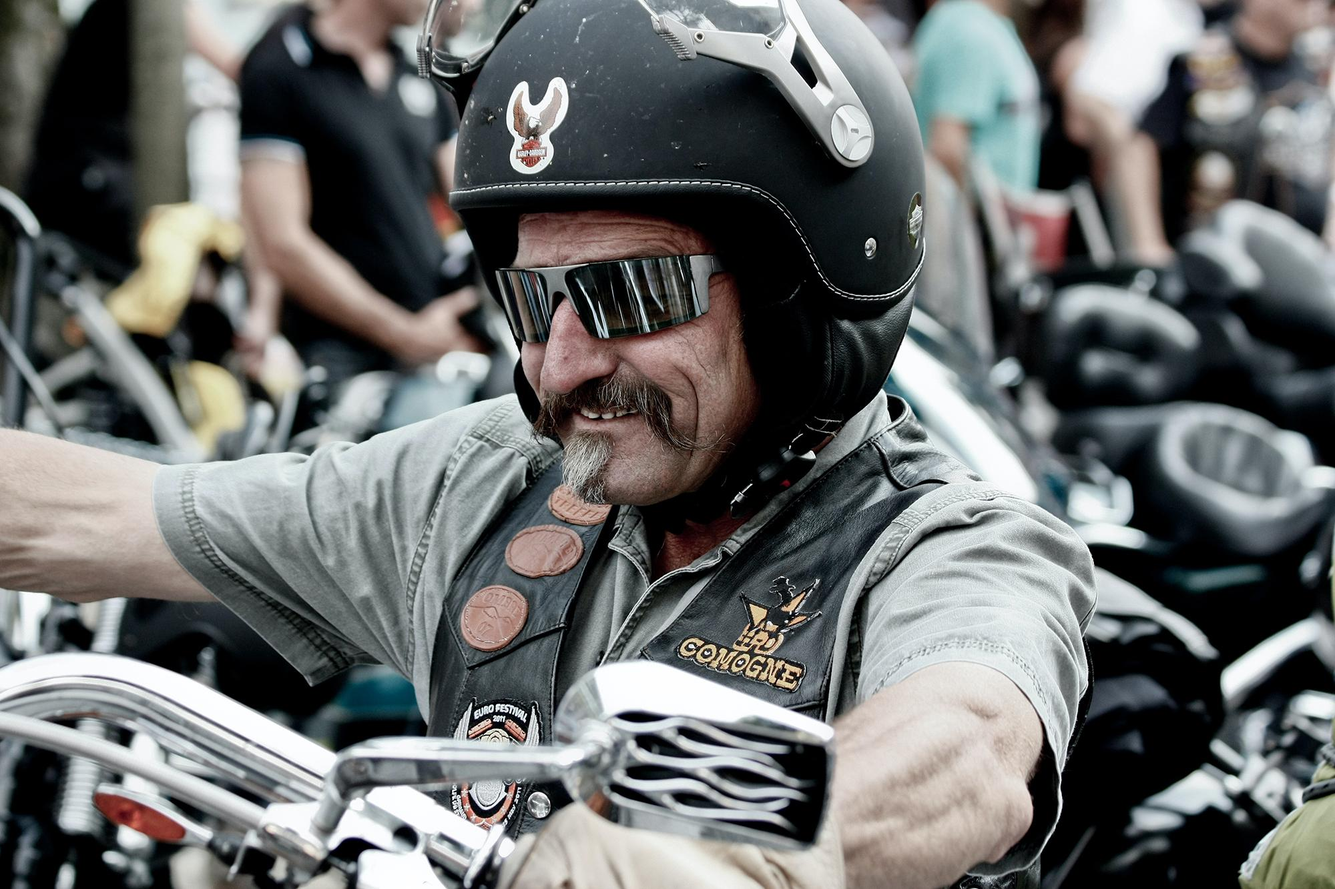helmet: (414, 0, 934, 541)
